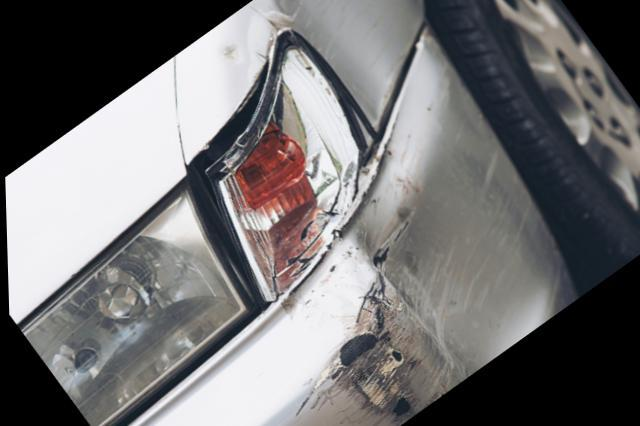dent: (364, 145, 556, 378), (225, 0, 394, 125)
lamp broken: (194, 28, 382, 302)
scratch: (272, 151, 460, 426)
